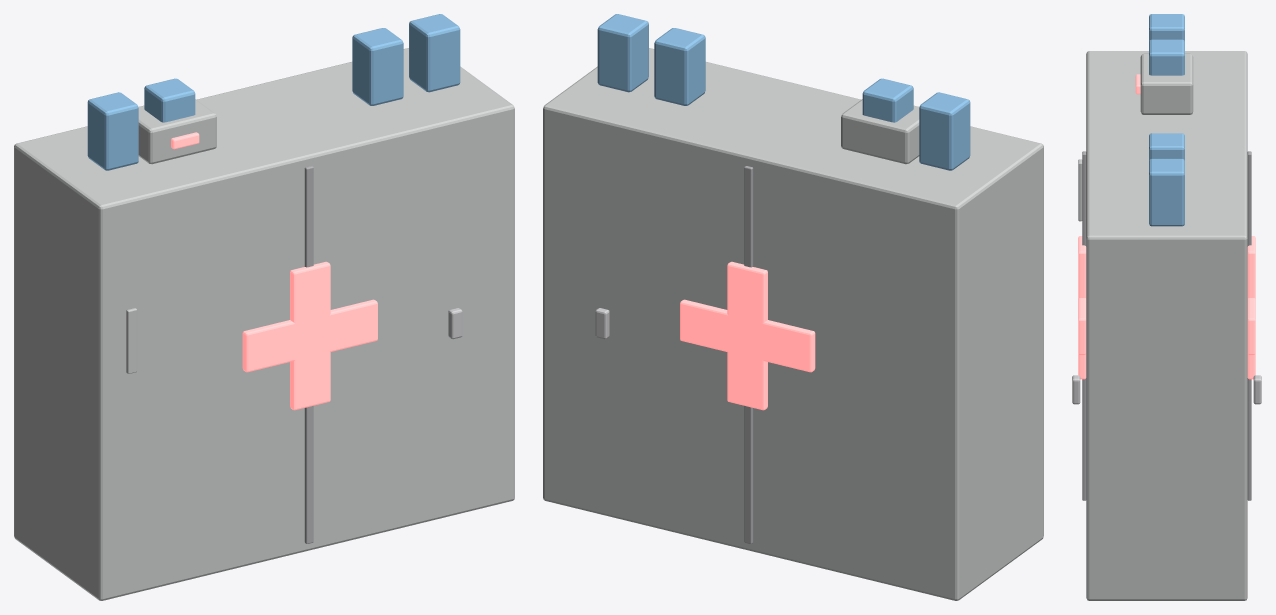
The model's file is аптечный_шкаф.glb.
3 views of the same model, side by side, from view 1: azimuth 30°, elevation 25°; view 2: azimuth 150°, elevation 25°; view 3: azimuth 270°, elevation 25° (orthographic). The views are drawn at different scales.
Visible parts, largest first — view 1: аптечный_шкаф; view 2: аптечный_шкаф; view 3: аптечный_шкаф.
Part boxes in pixels (box(x1,y1,x2,y2)): аптечный_шкаф: box(14, 14, 514, 600); аптечный_шкаф: box(543, 14, 1043, 600); аптечный_шкаф: box(1072, 14, 1261, 600).
Size of the model in its own units: 2.2 by 2.3 by 0.94.
